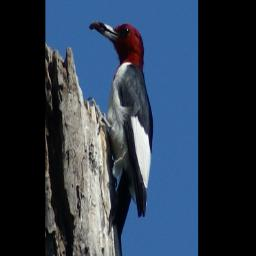Woodpecker: (90, 19, 154, 256)
